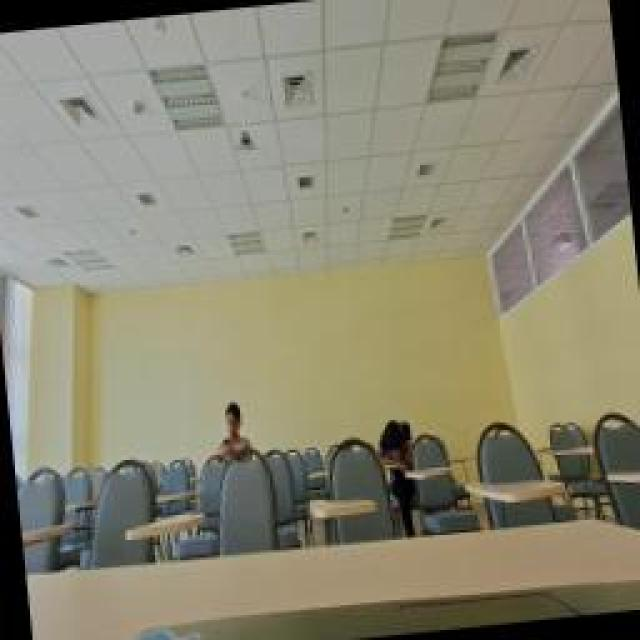phone: (215, 400, 255, 465)
sleep: (370, 418, 418, 472)
